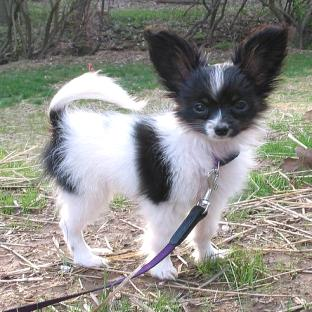Animal: (44, 26, 289, 266)
